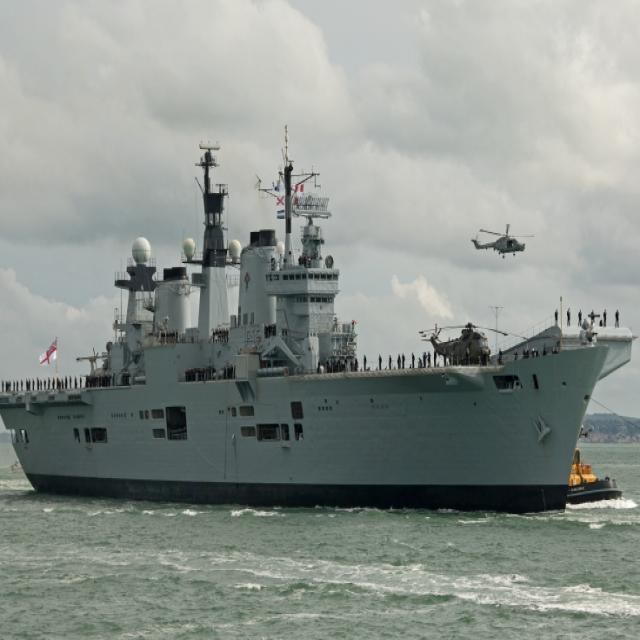Portanaves: (1, 123, 640, 518)
